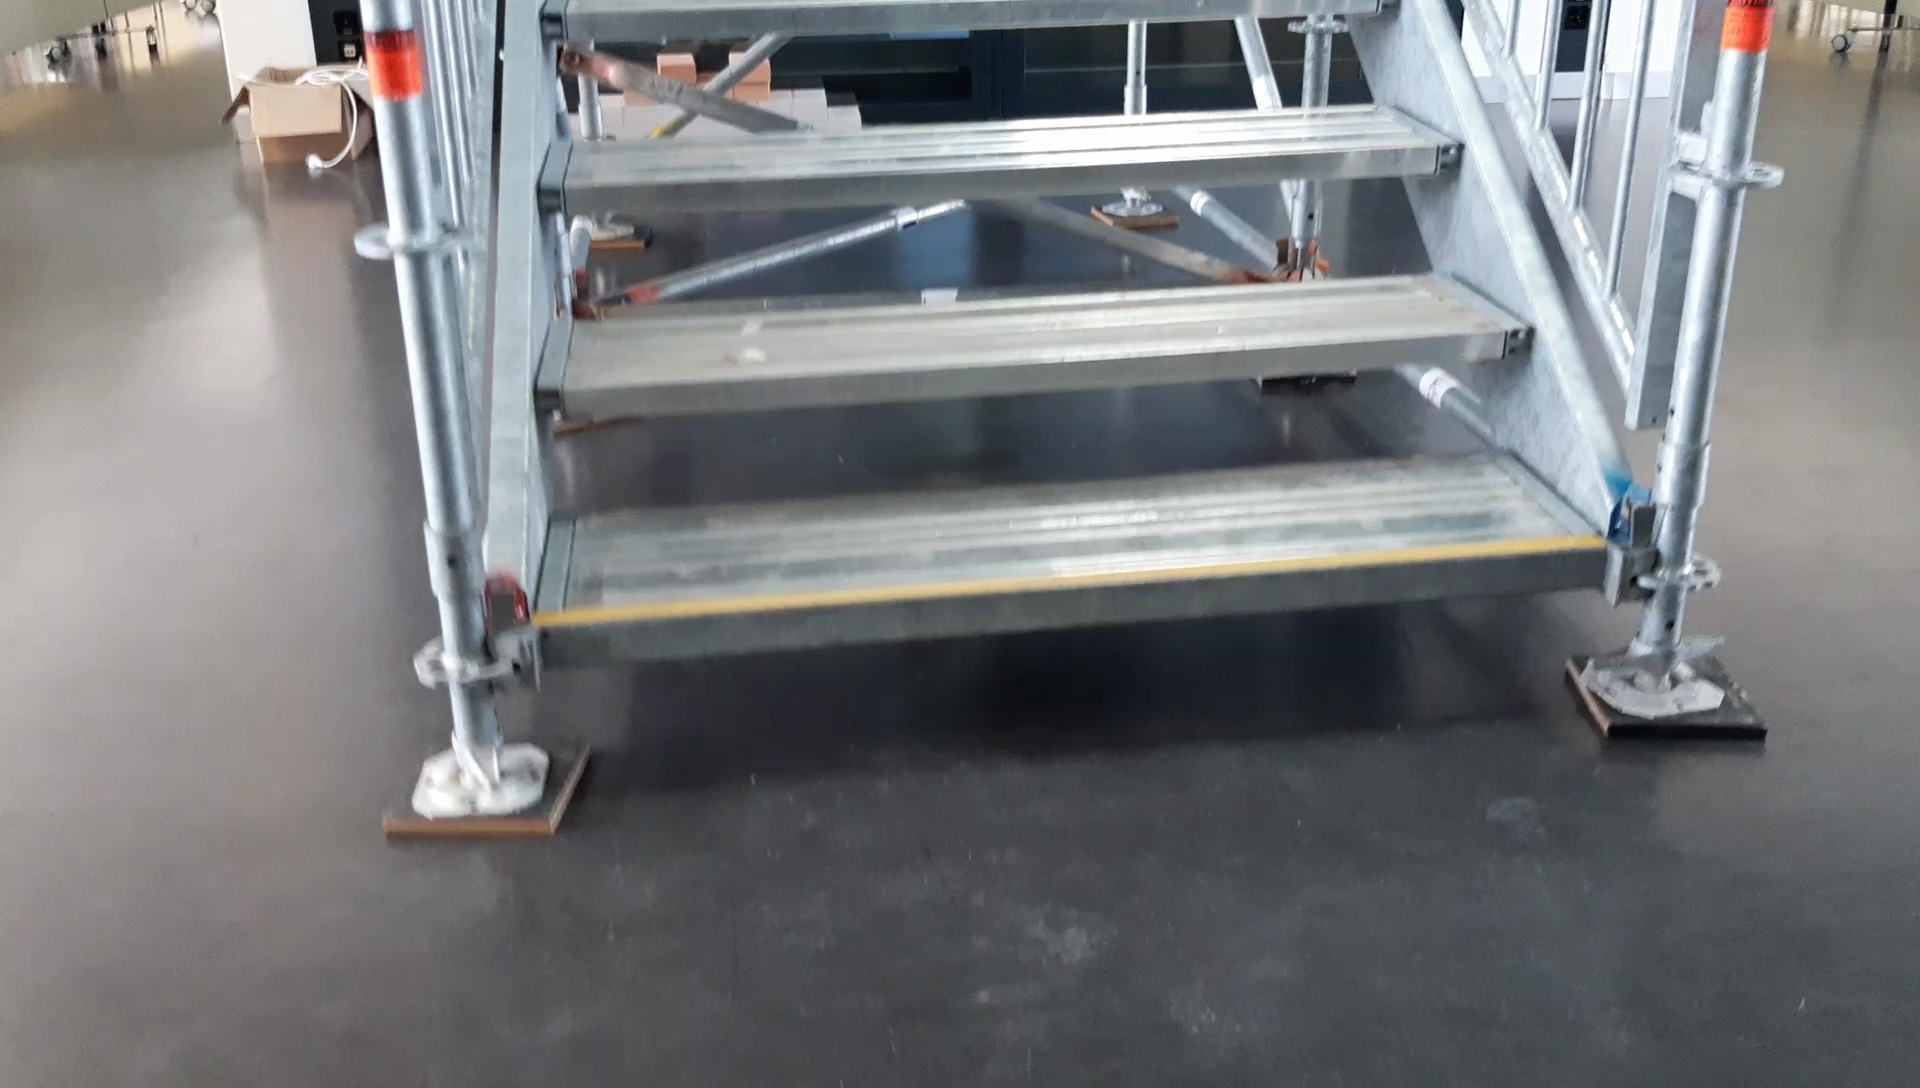brick: (655, 55, 692, 78), (795, 88, 825, 112), (732, 80, 767, 100), (622, 108, 658, 128), (828, 106, 857, 128)
edge: (542, 543, 1607, 662), (538, 327, 1534, 410), (535, 142, 1462, 210), (541, 0, 1399, 38)
stairs: (351, 3, 1768, 831)
